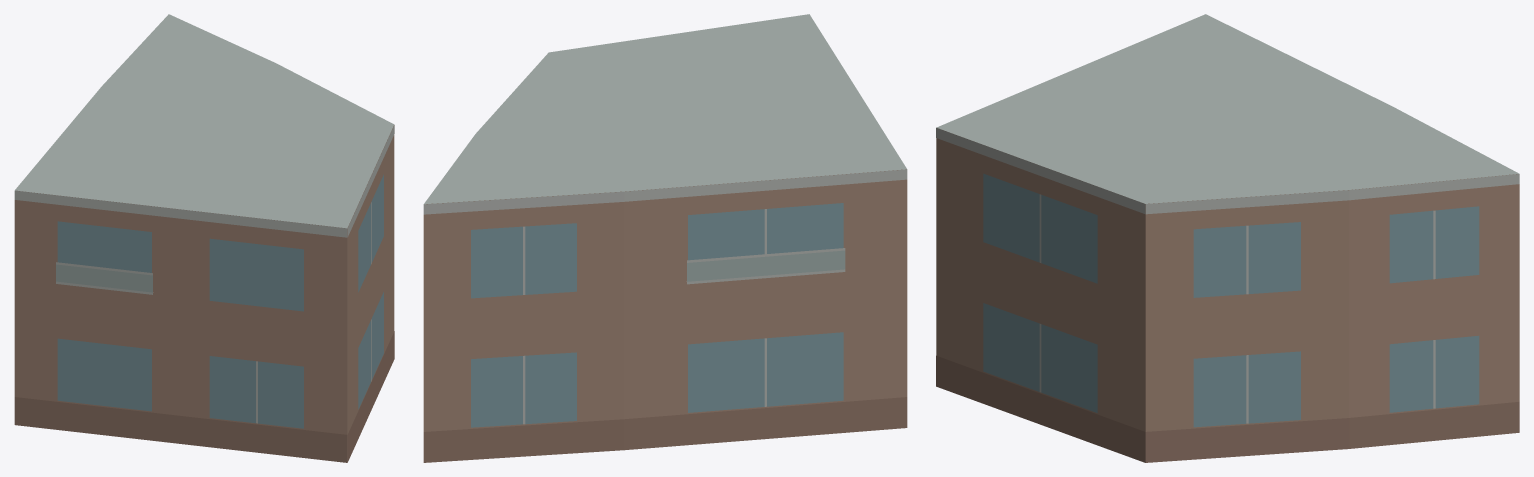
File: survey-upis-32821261.glb
3 views of the same model, side by side, from view 1: azimuth 30°, elevation 25°; view 2: azimuth 150°, elevation 25°; view 3: azimuth 270°, elevation 25° (orthographic). The views are drawn at different scales.
Visible parts, largest first — view 1: survey-upis-32821261.tmp; view 2: survey-upis-32821261.tmp; view 3: survey-upis-32821261.tmp.
Boxes of the visible parts, x1,y1,x2,y2 form: survey-upis-32821261.tmp: (14, 14, 394, 462); survey-upis-32821261.tmp: (423, 14, 907, 462); survey-upis-32821261.tmp: (936, 14, 1519, 462).
Size of the model in its own units: 9.61 by 6.1 by 12.47.
